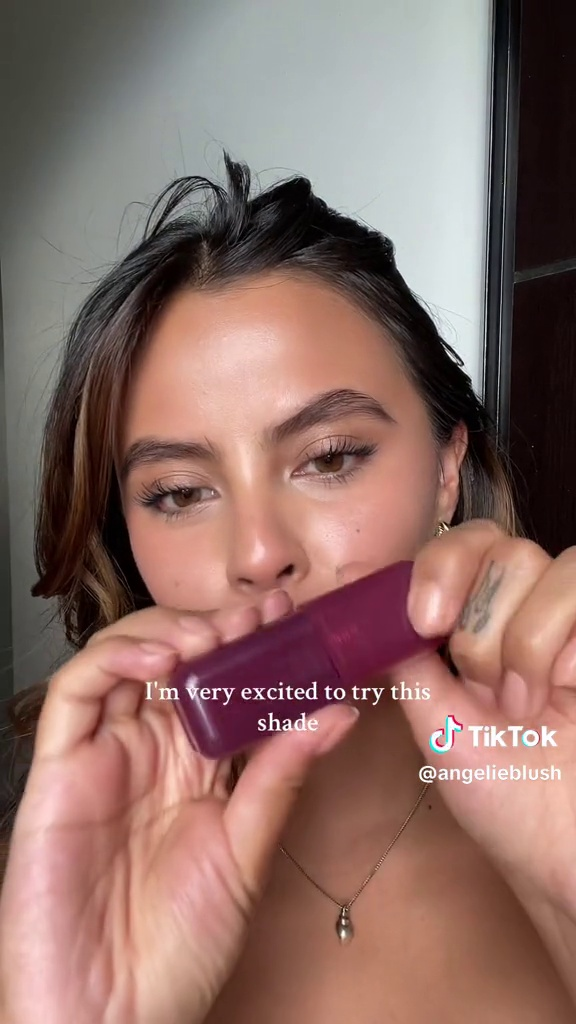train' :'yolo_data/train/images',: (163, 550, 444, 775)
